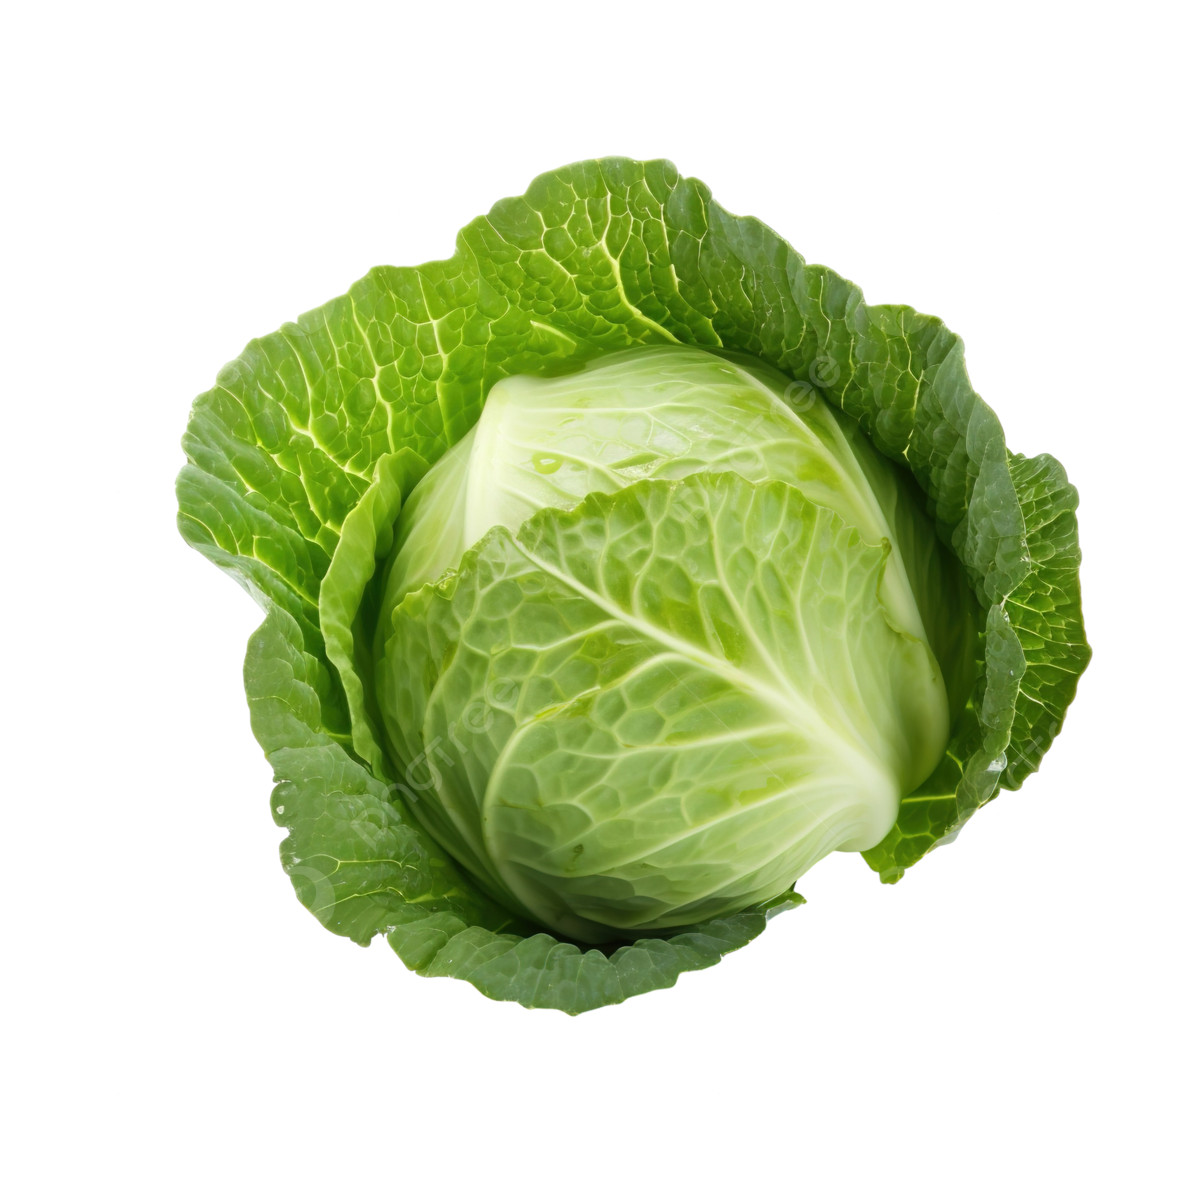cabbage: (171, 153, 1099, 1019)
